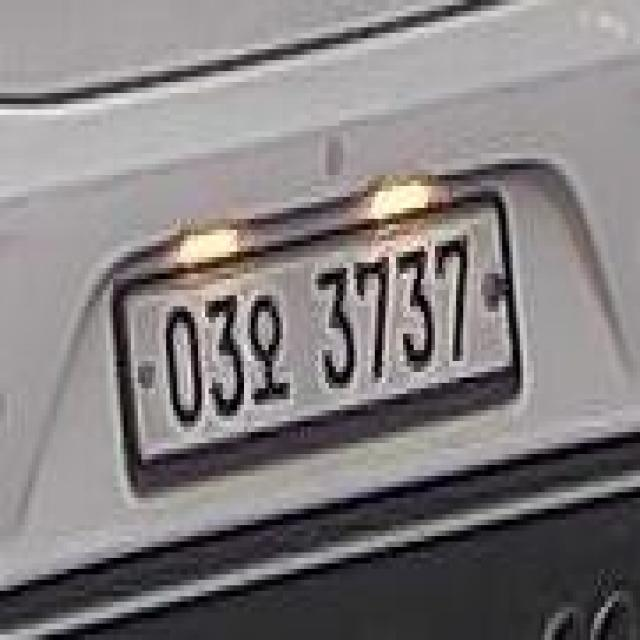illegal_plate: (112, 183, 526, 496)
